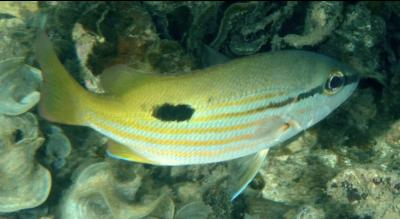Lutjanidae -Snappers-: (28, 21, 363, 202)
